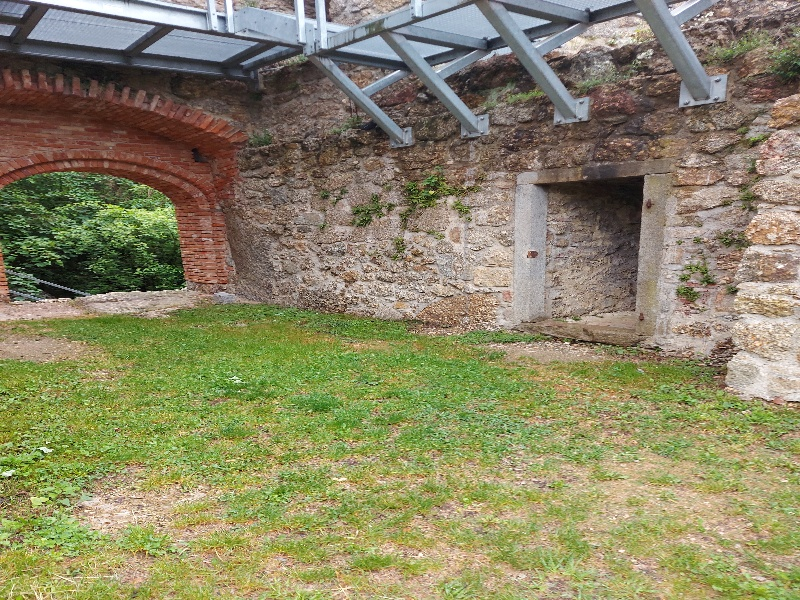door1: (511, 166, 664, 348)
